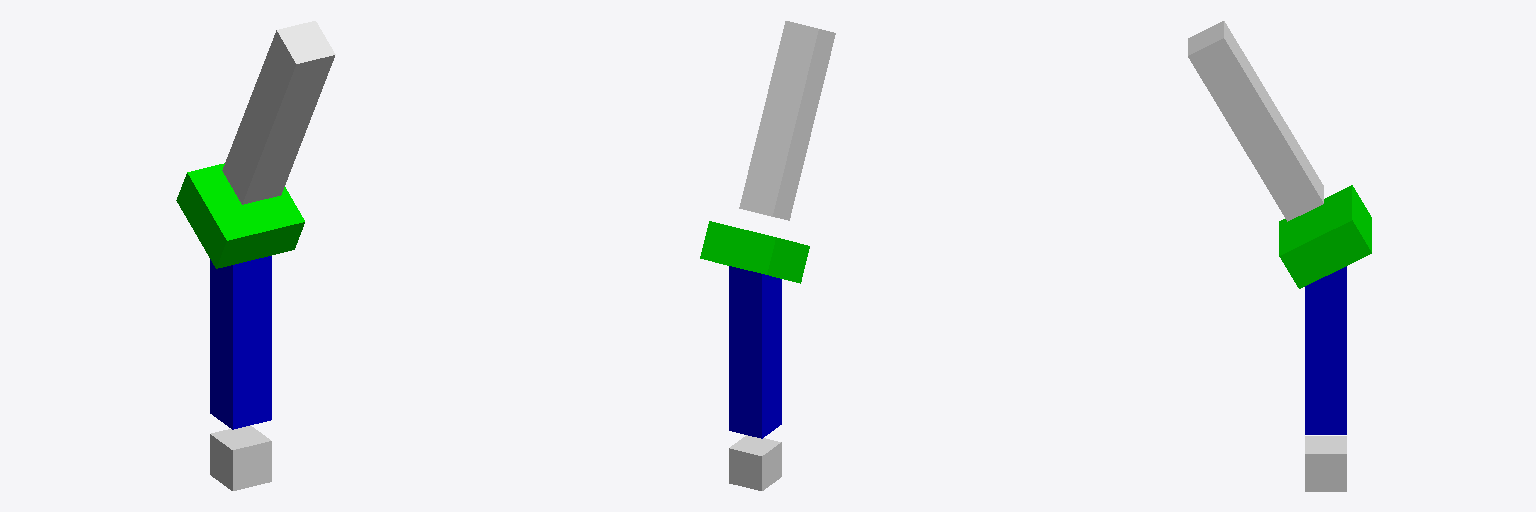
URDF robot description (simple_closed_chain_robot):
<?xml version="1.0" ?>

<robot name="simple_closed_chain_robot">

<link name="base_link">
    <visual>
        <origin rpy="0 0 0" xyz="0 0 0"/>
        <geometry>
            <box size="0.1 0.1 0.1"/>
        </geometry>
        <material name="">
            <color rgba="0.9 0.9 0.9 1"/>
        </material>
    </visual>
    <collision>
        <origin rpy="0 0 0" xyz="0 0 0"/>
        <geometry>
            <box size="0.01 0.01 0.01"/>
        </geometry>
    </collision>
</link>


  <joint name="chain_1_active_joint_1" type="revolute">
    <origin rpy="0 0 0" xyz="0 0 0.0"/>
    <parent link="base_link"/>
    <child link="chain_1_link_1"/>
    <axis xyz="1 0 0"/>
    <limit effort="1000" lower="-6.0" upper="6.0" velocity="2.0"/>
  </joint>


<link name="chain_1_link_1">
    <visual>
        <origin rpy="0 0 0" xyz="0 0 0.35"/>
        <geometry>
            <box size="0.1 0.1 0.5"/>
        </geometry>
        <material name="">
            <color rgba="0.0 0.0 0.9 1"/>
        </material>
    </visual>
    <collision>
        <origin rpy="0 0 0" xyz="0 0 0"/>
        <geometry>
            <box size="0.01 0.01 0.01"/>
        </geometry>
    </collision>
</link>


  <joint name="chain_1_mimic_joint_2" type="revolute">
    <origin rpy="0 0 0" xyz="0 0 0.6"/>
    <parent link="chain_1_link_1"/>
    <child link="chain_1_link_2"/>
    <axis xyz="1 0 0"/>
    <limit effort="1000" lower="-10.0" upper="10.0" velocity="5.0"/>
    <mimic joint="chain_1_active_joint_1" multiplier="-1.5" offset="0.5"/>
  </joint>

<link name="chain_1_link_2">
    <visual>
        <origin rpy="0 0 0" xyz="0 0 0.35"/>
        <geometry>
            <box size="0.1 0.1 0.5"/>
        </geometry>
        <material name="">
            <color rgba="0.9 0.9 0.9 1"/>
        </material>
    </visual>
    <collision>
        <origin rpy="0 0 0" xyz="0 0 0"/>
        <geometry>
            <box size="0.01 0.01 0.01"/>
        </geometry>
    </collision>
</link>

<link name="ee_link">
    <visual>
        <origin rpy="0 0 0" xyz="0 0 0"/>
        <geometry>
            <box size="0.2 0.2 0.1"/>
        </geometry>
        <material name="">
            <color rgba="0.0 0.9 0.0 1"/>
        </material>
    </visual>
    <collision>
        <origin rpy="0 0 0" xyz="0 0 0"/>
        <geometry>
            <box size="0.01 0.01 0.01"/>
        </geometry>
    </collision>
</link>



  <joint name="active_joint_2" type="revolute">
    <origin rpy="0 0 0" xyz="0 0 0.0"/>
    <parent link="chain_1_link_2"/>
    <child link="ee_link"/>
    <axis xyz="1 0 0"/>
    <limit effort="1000" lower="-6.0" upper="6.0" velocity="2.0"/>
  </joint>


</robot>

--- What the picture shows (computed from the rendered views, not written in the file) ---
Views: 3 orthographic renders of the robot side by side, from view 1: azimuth 30°, elevation 25°; view 2: azimuth 150°, elevation 25°; view 3: azimuth 270°, elevation 25°.
Model simple_closed_chain_robot with 4 links and 3 joints (3 revolute), rooted at base_link, posed all joints at 0.
Links seen in each view (by area): view 1: chain_1_link_2, chain_1_link_1, ee_link, base_link; view 2: chain_1_link_2, chain_1_link_1, ee_link, base_link; view 3: chain_1_link_2, chain_1_link_1, ee_link, base_link.
Boxes of the visible links, bbox=[...] form: chain_1_link_2: bbox=[222, 21, 335, 204]; chain_1_link_1: bbox=[210, 256, 271, 429]; ee_link: bbox=[176, 163, 304, 268]; base_link: bbox=[210, 425, 271, 490]; chain_1_link_2: bbox=[739, 21, 835, 220]; chain_1_link_1: bbox=[729, 266, 781, 438]; ee_link: bbox=[700, 221, 809, 283]; base_link: bbox=[729, 435, 781, 490]; chain_1_link_2: bbox=[1188, 21, 1323, 221]; chain_1_link_1: bbox=[1305, 266, 1346, 434]; ee_link: bbox=[1279, 185, 1371, 288]; base_link: bbox=[1305, 436, 1346, 491].
Bounding box of the posed robot: 0.2 × 0.4433 × 1.2 m (x, y, z).
Geometry: primitives only (box / cylinder / sphere), no mesh files.